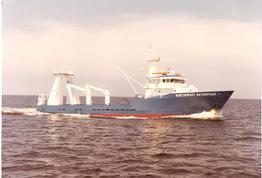Cargoship: (28, 48, 236, 116)
